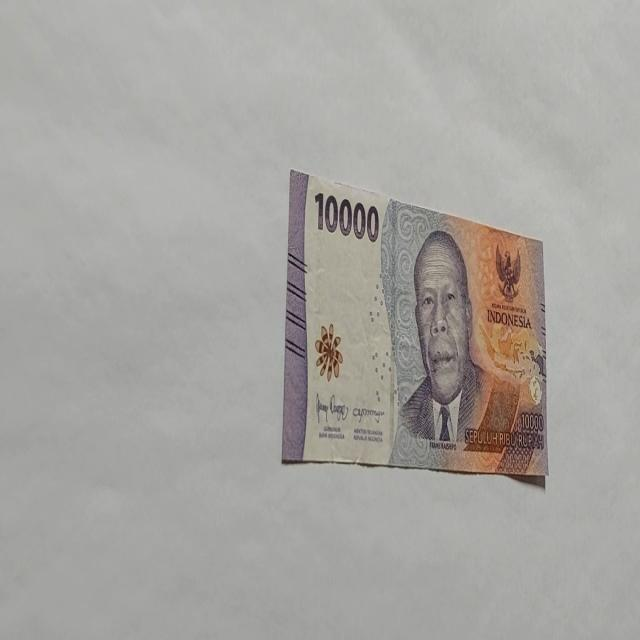sepuluh ribu rupiah: (281, 167, 549, 481), (389, 226, 522, 470)
